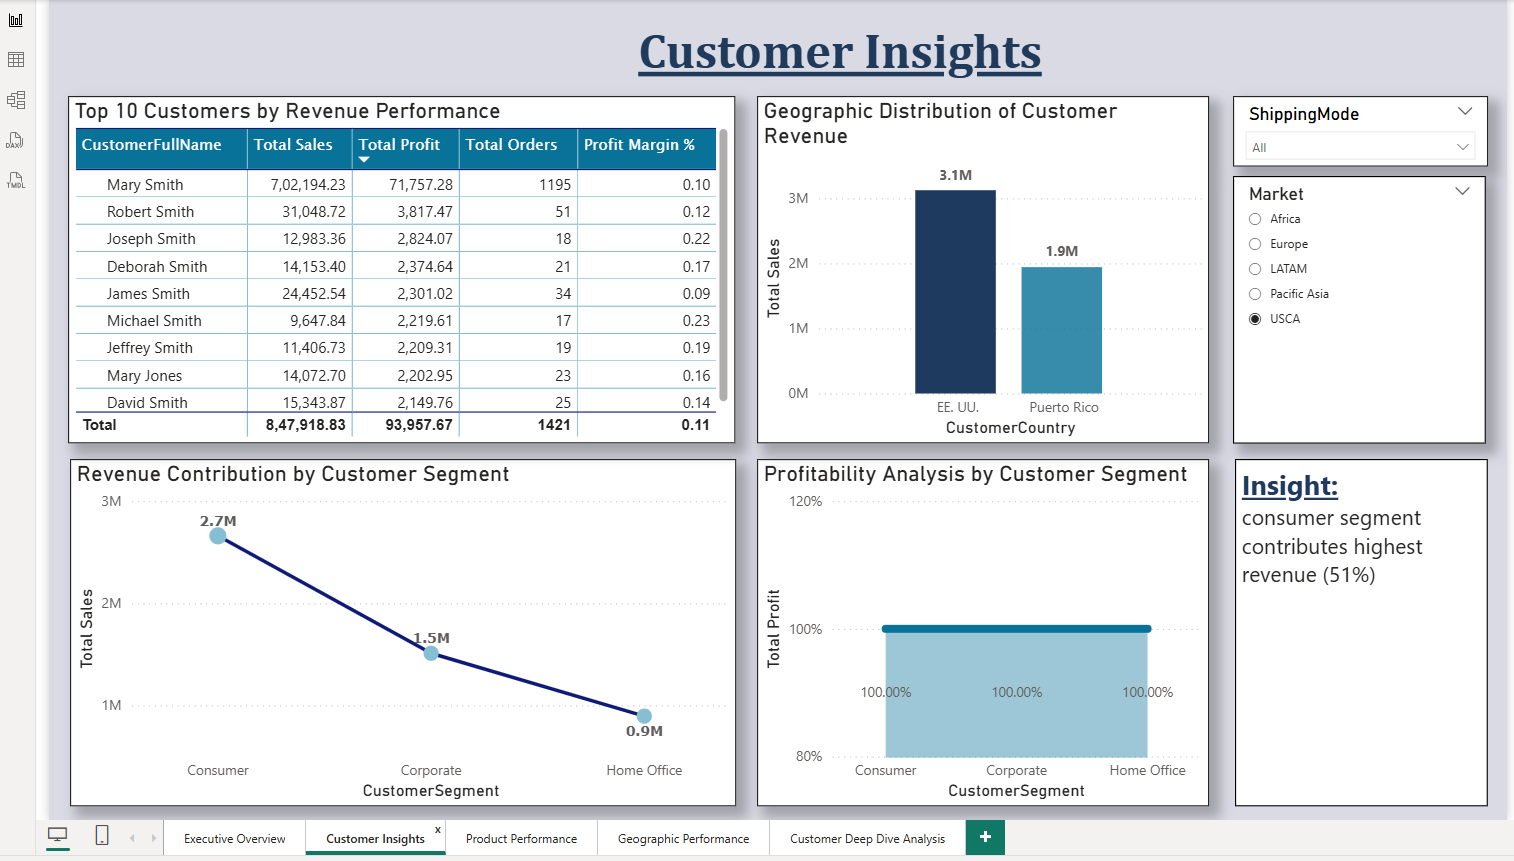

The dashboard page shown, as its layout file describes it:
{"tool":"powerbi","page":{"name":"Customer Insights","canvas":[1280,720],"ordinal":1},"visuals":[{"type":"textbox","box":[476.5,14.5,435.5,70],"z":0},{"type":"lineChart","title":"Revenue Contribution by Customer Segment","fields":{"Category":["DimCustomer.CustomerSegment"],"Y":["Measures (1).Total Sales"]},"box":[18.1,403,585.1,305.2],"z":1000},{"type":"hundredPercentStackedAreaChart","title":"Profitability Analysis by Customer Segment","fields":{"Category":["DimCustomer.CustomerSegment"],"Y":["Measures (1).Total Profit"]},"box":[621.3,403,396.9,305.2],"z":2000},{"type":"tableEx","title":"Top 10 Customers by Revenue Performance","fields":{"Values":["DimCustomer.CustomerFullName","FactOrders.Total Sales","FactOrders.Total Profit","FactOrders.Total Orders","FactOrders.Profit Margin"]},"box":[16.9,84.5,586.3,305.2],"z":3000},{"type":"clusteredColumnChart","title":"Geographic Distribution of Customer Revenue","fields":{"Category":["DimCustomer.CustomerCountry"],"Y":["Measures (1).Total Sales"]},"box":[621.3,84.5,396.9,305.2],"z":4000},{"type":"slicer","fields":{"Values":["FactOrders.ShippingMode"]},"box":[1040,84.5,224.4,61.5],"z":5000},{"type":"slicer","fields":{"Values":["DimMarket.Market"]},"box":[1040,154.4,222,235.3],"z":6000},{"type":"textbox","box":[1041.2,403,222,305.2],"z":7000}]}

Visuals, with their boxes in screenshot pixels (x1, y1, x2, y2):
textbox: Rect(591, 20, 1081, 99)
"Revenue Contribution by Customer Segment" lineChart: Rect(76, 457, 734, 801)
"Profitability Analysis by Customer Segment" hundredPercentStackedAreaChart: Rect(754, 457, 1201, 801)
"Top 10 Customers by Revenue Performance" tableEx: Rect(74, 99, 734, 442)
"Geographic Distribution of Customer Revenue" clusteredColumnChart: Rect(754, 99, 1201, 442)
slicer - FactOrders.ShippingMode: Rect(1225, 99, 1478, 168)
slicer - DimMarket.Market: Rect(1225, 178, 1475, 442)
textbox: Rect(1227, 457, 1476, 801)
